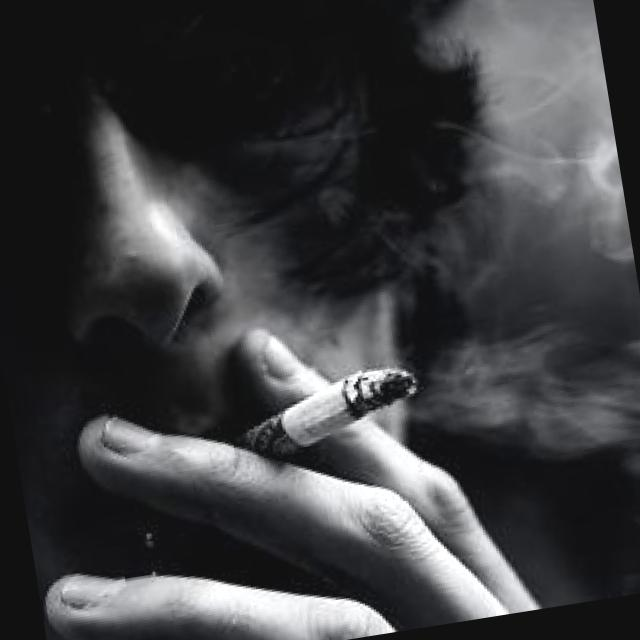smoke: (230, 357, 432, 464)
